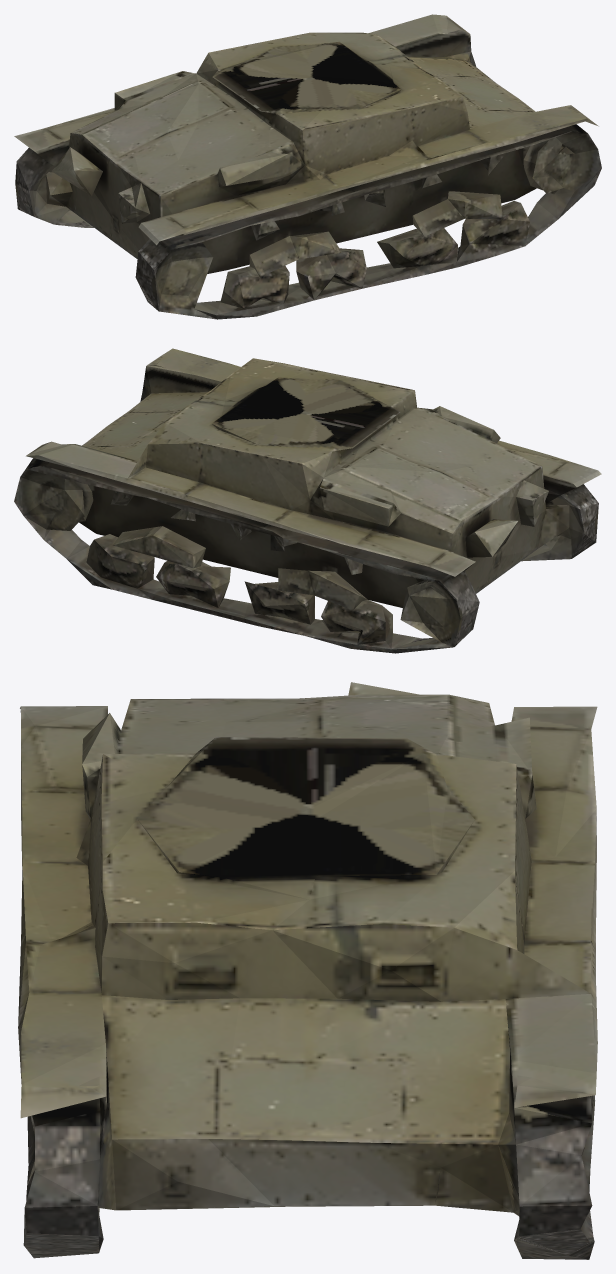
File: hull.obj
3 views of the same model, one above another, from view 1: azimuth 30°, elevation 25°; view 2: azimuth 150°, elevation 25°; view 3: azimuth 270°, elevation 25° (orthographic). The views are drawn at different scales.
Bounding box in the file's own units: 0.9962 × 0.335 × 0.5575.
Materials: 1 (1 with a texture image).
